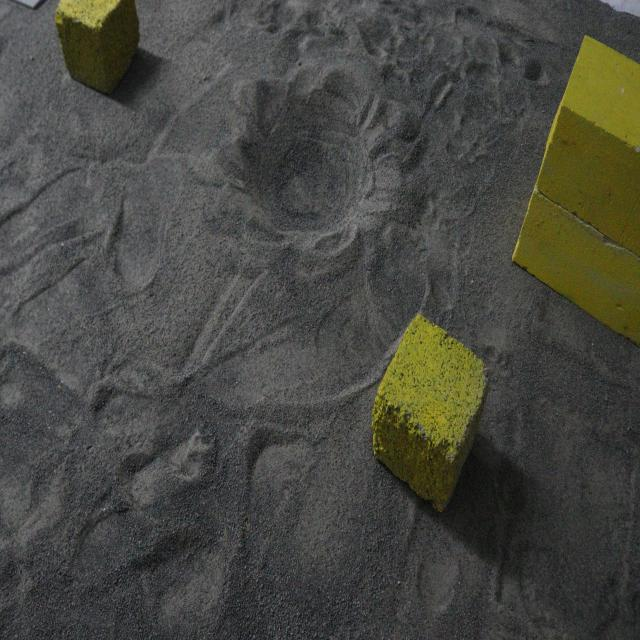box: (511, 40, 640, 336), (368, 322, 498, 506), (59, 0, 144, 97)
crater: (225, 70, 416, 270)
